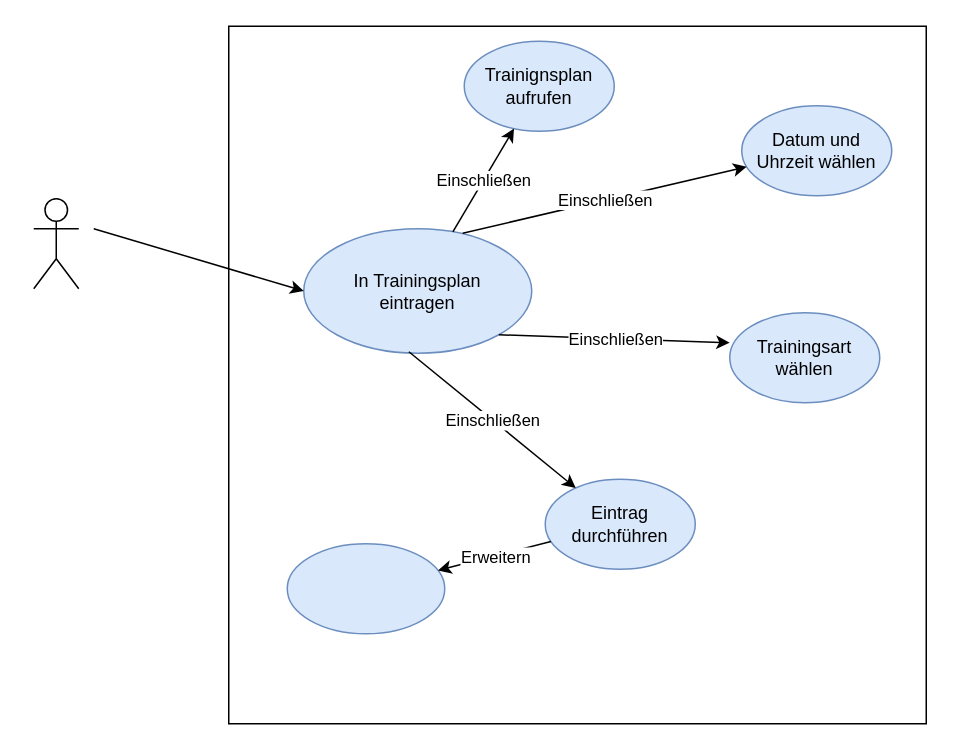
Some shapes in this 953 by 750 pixel diagram are drawn without their labels. The shapes that lost their labels are listed below. From the top down, each one's centre as x and y in pixels, then its label:
At [55,243]: "Mitglied".
At [365,588]: "Uhrzeit anpassen".
